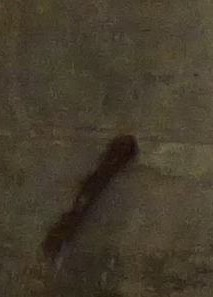Exposed reinforcement: (42, 134, 139, 259)
